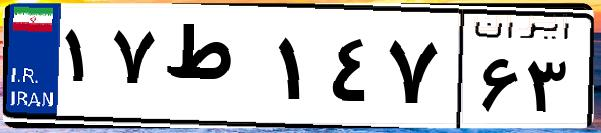1: (270, 28, 330, 110), (57, 26, 110, 100)
3: (525, 38, 570, 115)
4: (330, 28, 385, 110)
6: (475, 38, 525, 113)
7: (385, 28, 445, 110), (110, 28, 158, 98)
ط: (158, 20, 270, 120)
